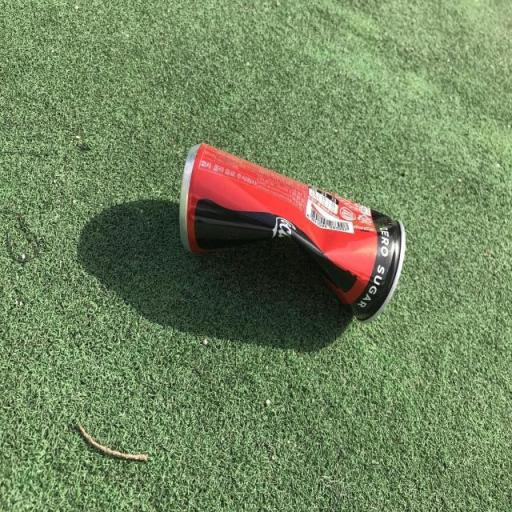metal: (164, 108, 427, 362)
